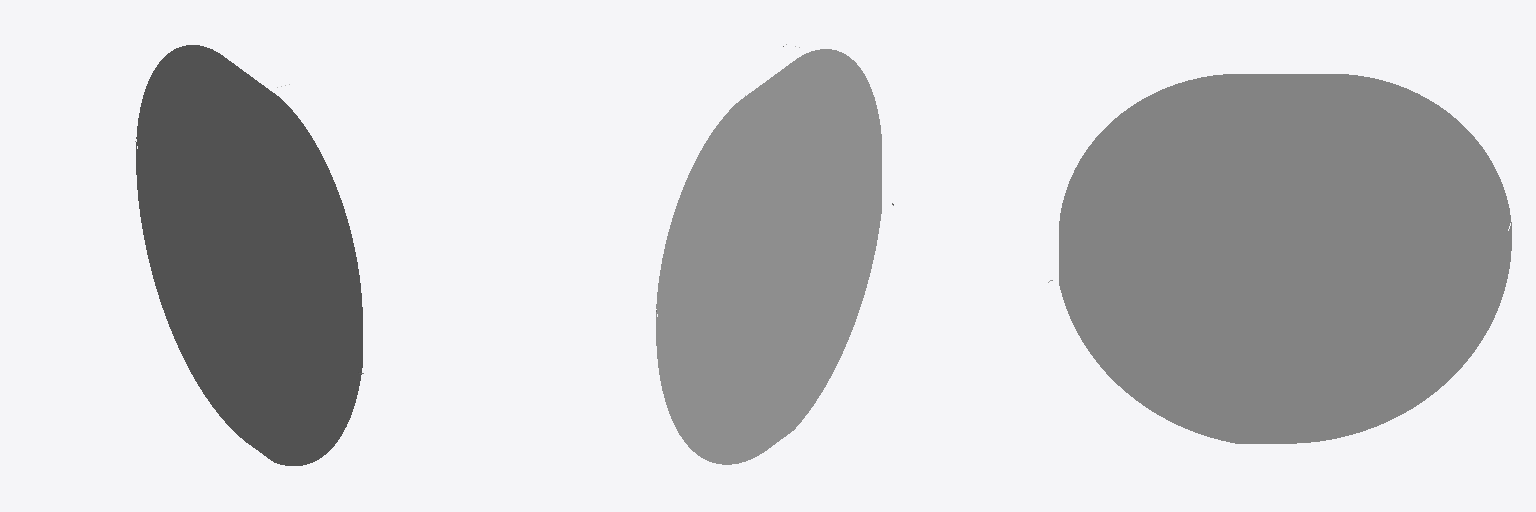
The model's file is lense2.obj.
The picture shows the model from 3 angles: view 1: azimuth 30°, elevation 25°; view 2: azimuth 150°, elevation 25°; view 3: azimuth 270°, elevation 25°; orthographic projection.
Bounding box in the file's own units: 3 × 46.22 × 51.22.